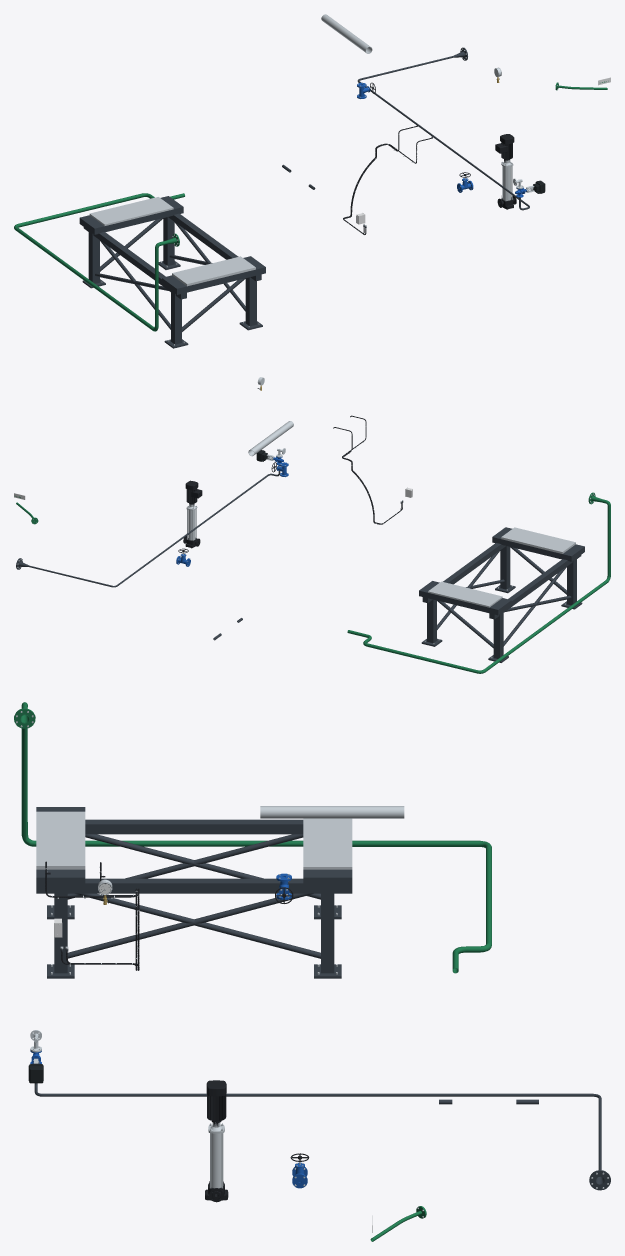
3 views of the same model, one above another, from view 1: azimuth 30°, elevation 25°; view 2: azimuth 150°, elevation 25°; view 3: azimuth 270°, elevation 25° (orthographic). The views are drawn at different scales.
Parts seen in each view (by area): view 1: deaerator_support / dark, deaerator_support / steel, deaerator_feed / green, steam_delivery / steel, tds_common / dark; view 2: deaerator_support / dark, deaerator_support / steel, deaerator_feed / green; view 3: deaerator_support / dark, deaerator_support / steel, deaerator_feed / green, tds_common / dark, steam_delivery / steel, tds_to_fv / dark, pump_1 CAD solid 15.
Boxes of the visible parts, x1,y1,x2,y2 form: deaerator_support / dark: [79, 196, 265, 348]; deaerator_support / steel: [89, 197, 259, 345]; deaerator_feed / green: [14, 193, 184, 331]; steam_delivery / steel: [321, 14, 372, 53]; tds_common / dark: [380, 97, 529, 210]; deaerator_support / dark: [419, 527, 584, 662]; deaerator_support / steel: [424, 527, 575, 658]; deaerator_feed / green: [347, 492, 610, 673]; deaerator_support / dark: [36, 807, 352, 978]; deaerator_support / steel: [36, 811, 352, 974]; deaerator_feed / green: [14, 702, 491, 973]; tds_common / dark: [34, 1083, 522, 1096]; steam_delivery / steel: [260, 806, 404, 818]; tds_to_fv / dark: [522, 1093, 610, 1190]; pump_1 CAD solid 15: [206, 1080, 226, 1121].
Size of the model in its own units: 9.48 by 3.06 by 5.37.
